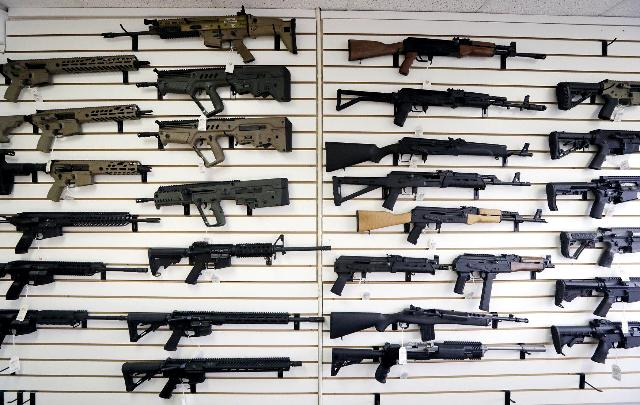rifle: (146, 227, 334, 286), (97, 8, 300, 62), (347, 27, 549, 81), (117, 352, 309, 405), (328, 82, 548, 126), (330, 341, 548, 385), (330, 166, 534, 212), (133, 172, 301, 226), (136, 67, 308, 115), (139, 118, 299, 168), (1, 152, 148, 206), (1, 102, 153, 154), (327, 311, 538, 348), (124, 307, 326, 345), (0, 211, 158, 255), (0, 256, 150, 302), (352, 205, 548, 240), (323, 140, 532, 172), (330, 248, 450, 302), (1, 52, 140, 98), (451, 246, 557, 303), (0, 306, 130, 344), (554, 69, 640, 121), (546, 318, 640, 364), (540, 178, 640, 218), (554, 276, 640, 318), (560, 224, 640, 268), (550, 129, 640, 167)
